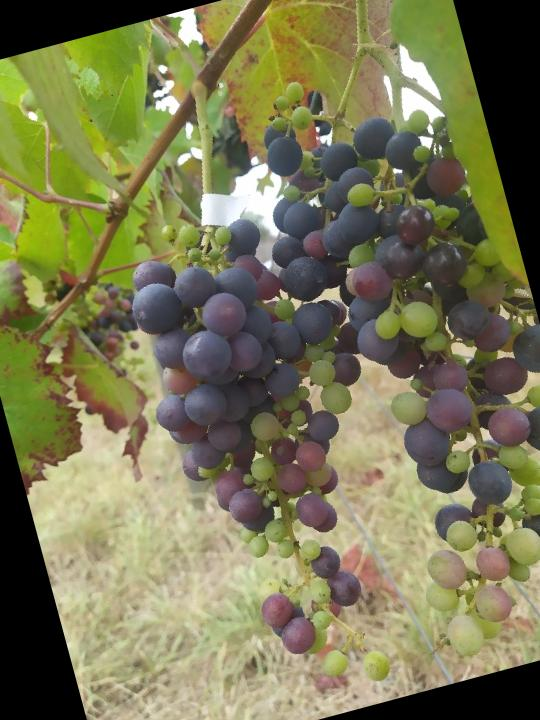grape: (226, 32, 540, 685), (105, 183, 444, 720)
